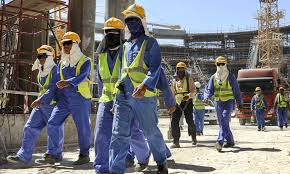hard hat: (103, 16, 125, 31), (124, 5, 149, 17), (61, 32, 81, 42)
safe person: (122, 4, 165, 165), (58, 31, 93, 158), (205, 56, 242, 152), (99, 14, 119, 159), (30, 43, 55, 146), (171, 62, 198, 148), (251, 86, 267, 131), (276, 88, 287, 126)
